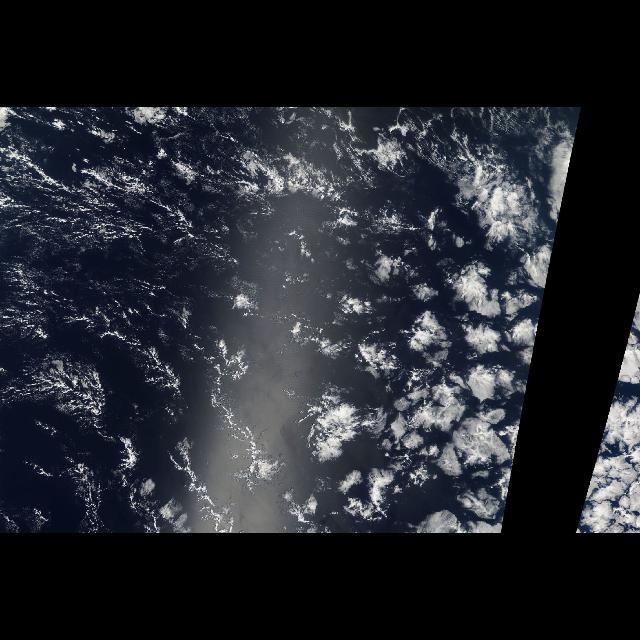Flower: (300, 243, 554, 533)
Sugar: (0, 126, 312, 526)
